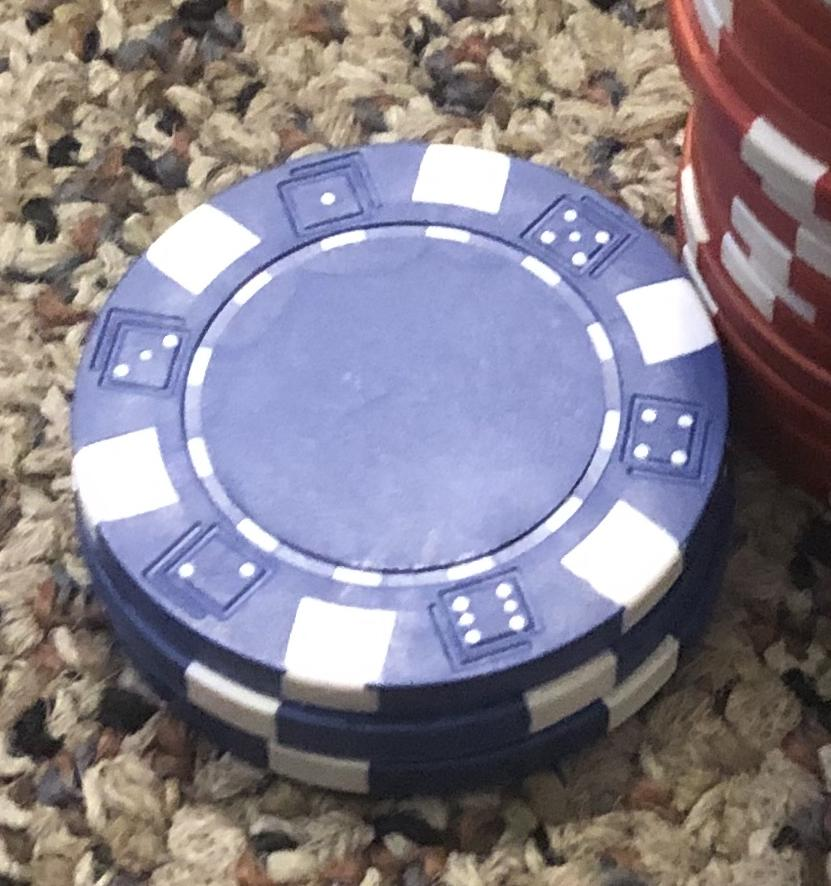Chip: (1, 1, 831, 886)
